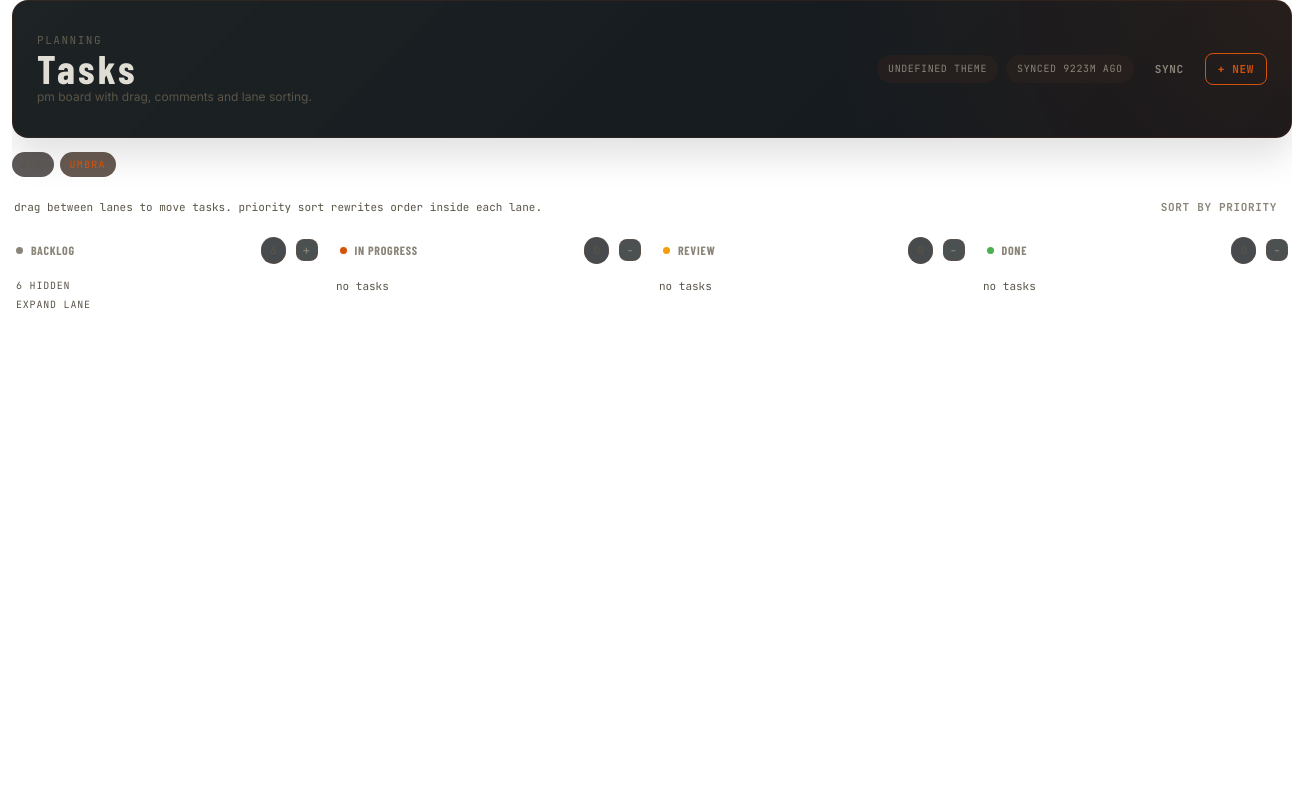
Test: TasksView › auto-collapses large backlog lanes but keeps the toggle overridable
Step 1. Click the button with class "lane-toggle" showing "+" → (306, 250), box [296,239,318,261]
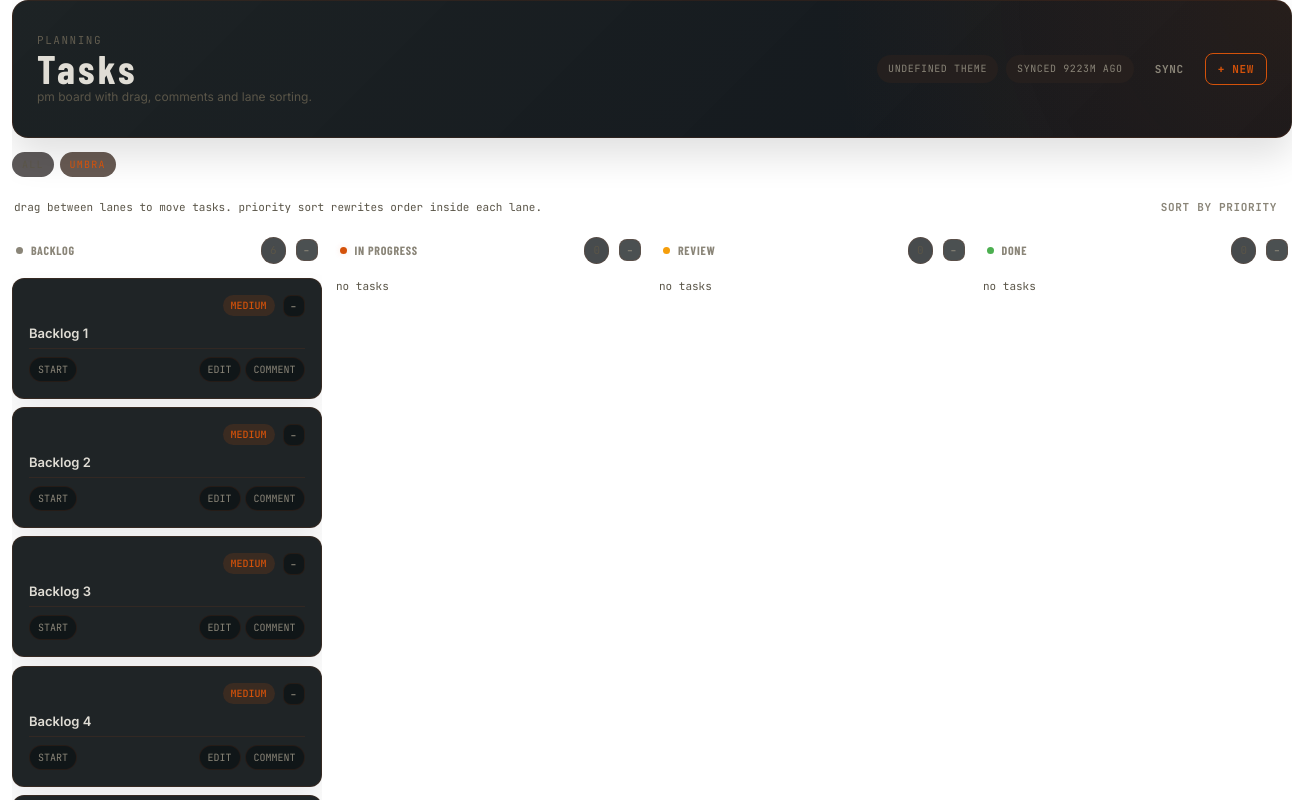
Expected: the text "Backlog 1" is shown, [29,324,88,340]
